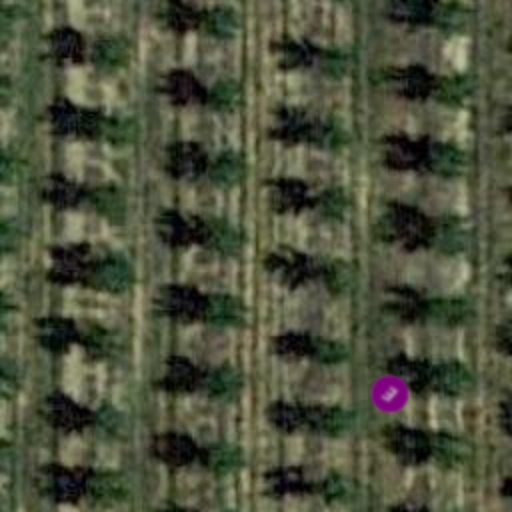circle: (364, 368, 416, 420)
